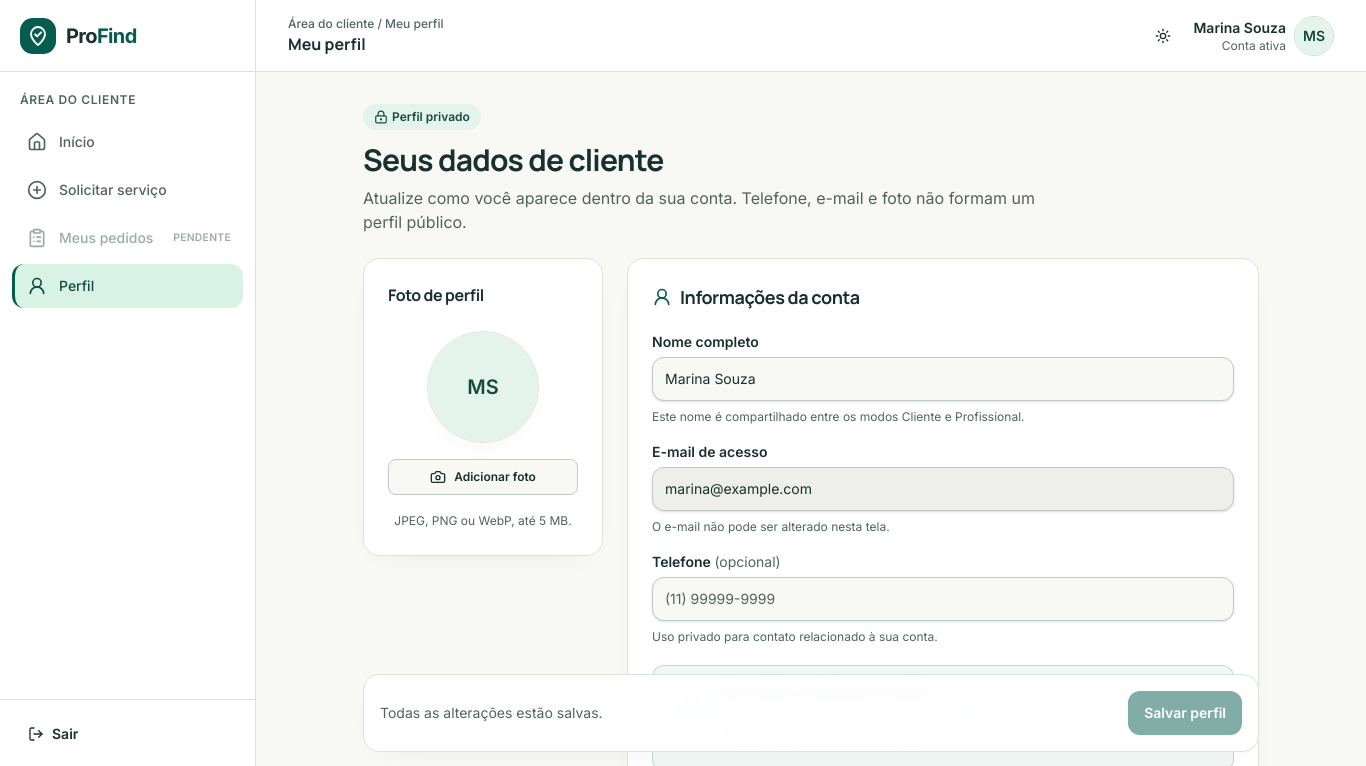
Scenario: ClientProfilePage › valida nome e telefone antes de gravar
The image size is (1366, 766).
Replace the text in the field labelled "Nome completo" with "A": (943, 379) [652, 357, 1234, 401]
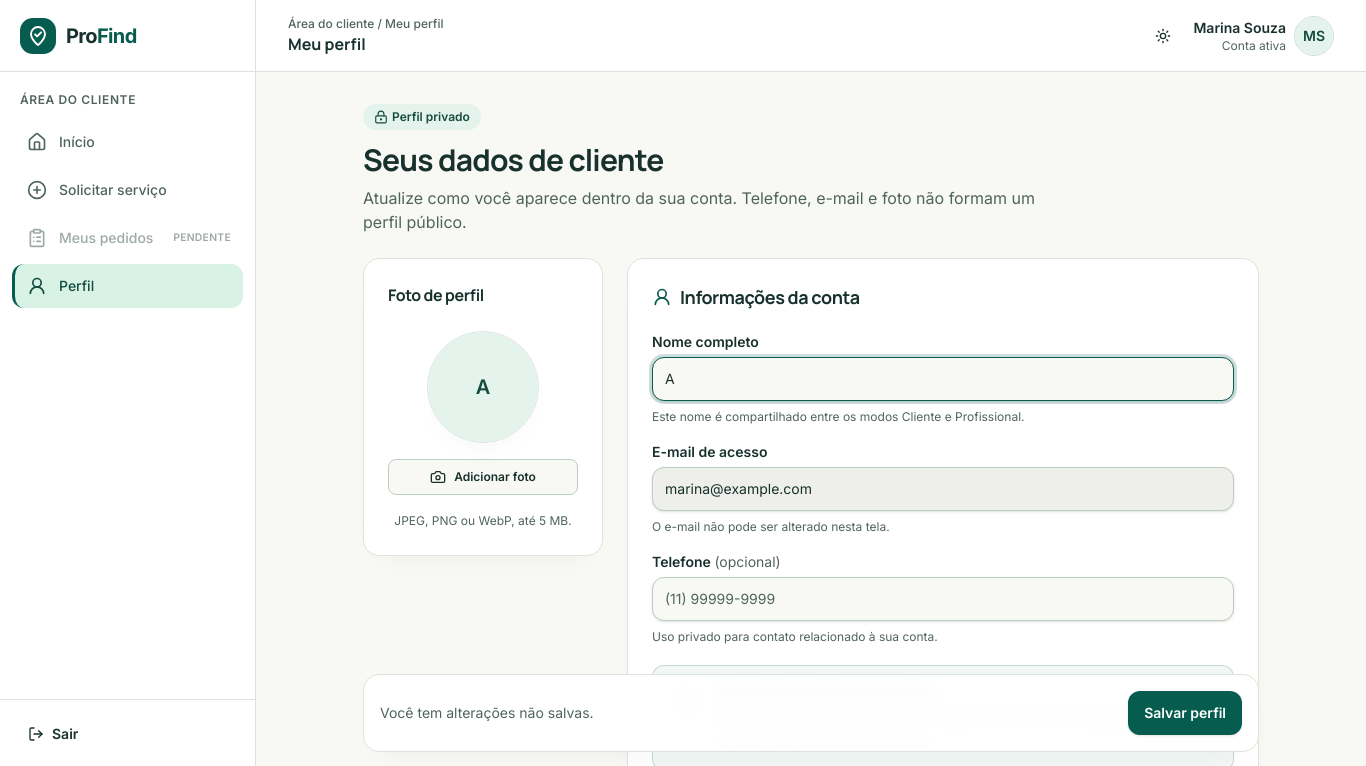
In the field labelled "Telefone (opcional)": (943, 599) [652, 577, 1234, 621], type "123"
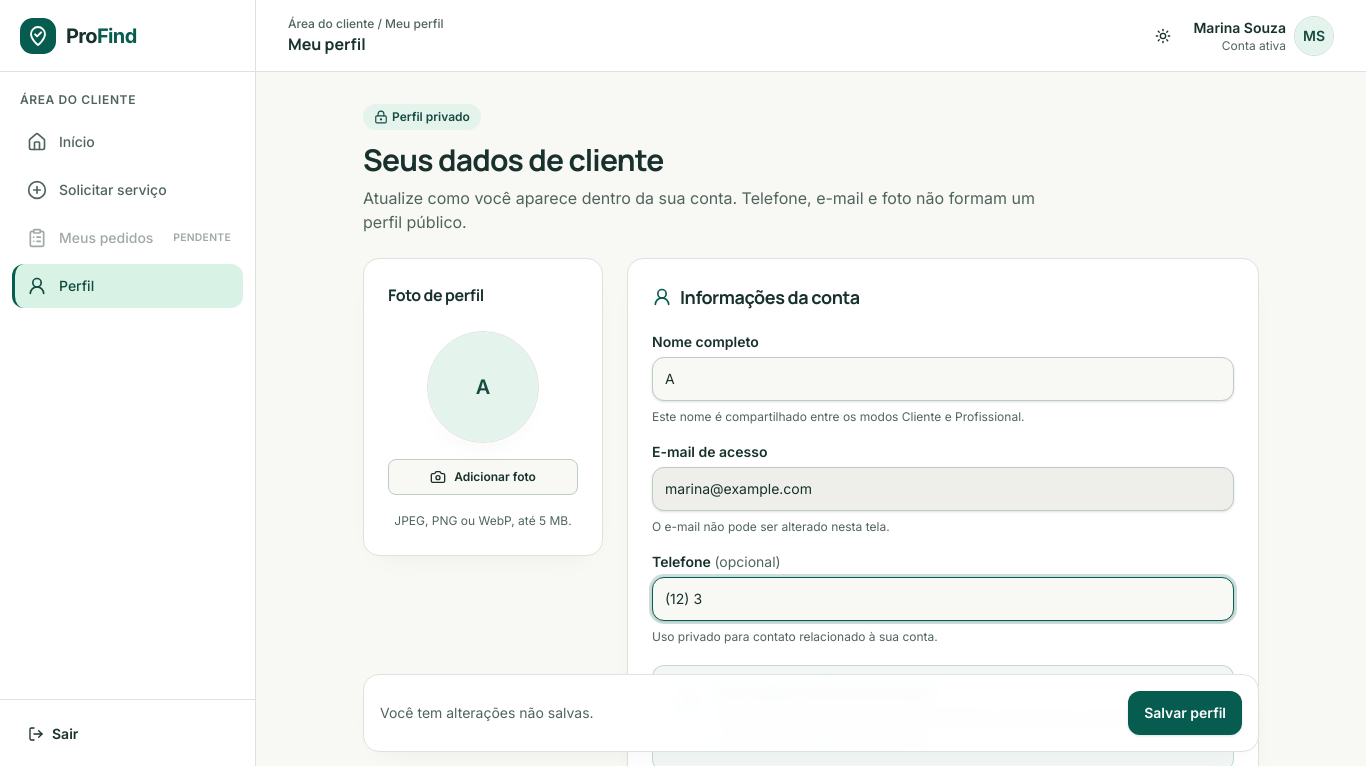
Click the button "Salvar perfil": (1185, 713) [1128, 691, 1242, 735]
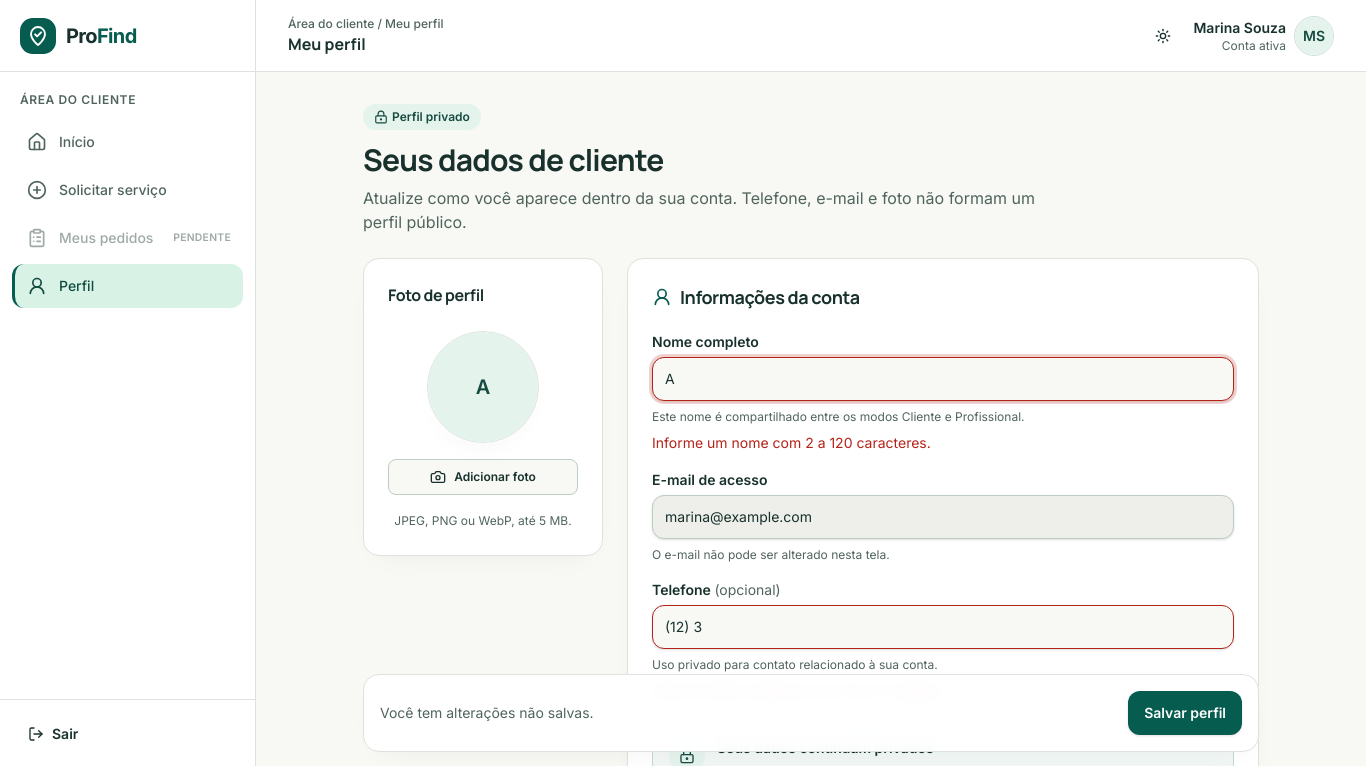
Expected: the text "Informe um nome com 2 a 120 caracteres." is shown, [652, 434, 931, 451]
